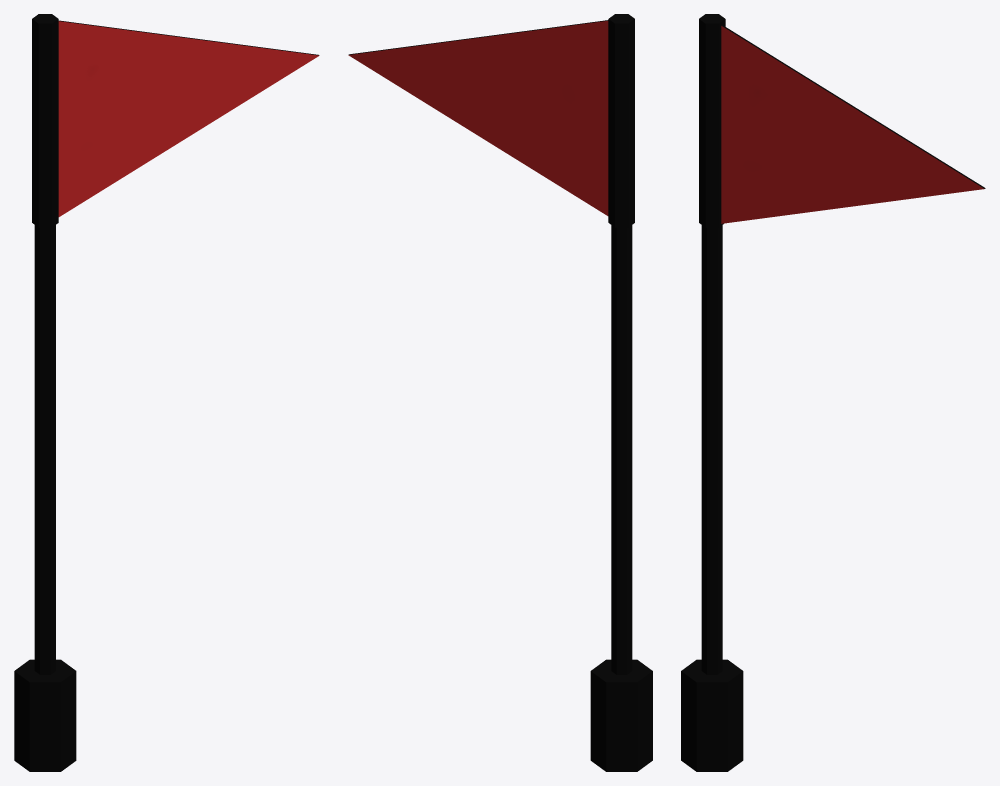
File: Flag.fbx
The picture shows the model from 3 angles, left to right: view 1: azimuth 30°, elevation 25°; view 2: azimuth 150°, elevation 25°; view 3: azimuth 330°, elevation 25°; orthographic projection.
Visible parts, largest first — view 1: Flag; view 2: Flag; view 3: Flag.
Boxes of the visible parts, bbox=[...] form: Flag: bbox=[14, 14, 319, 771]; Flag: bbox=[348, 14, 652, 771]; Flag: bbox=[681, 14, 985, 771].
Bounding box in the file's own units: 0.1761 × 0.4204 × 0.032.
